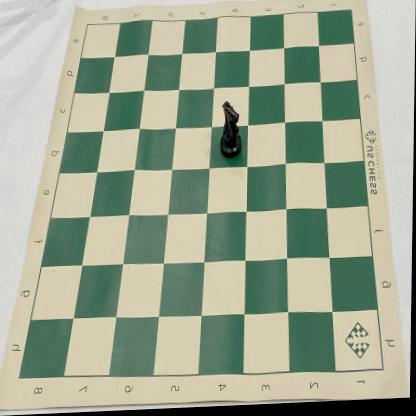black-knight: (219, 103, 244, 162)
